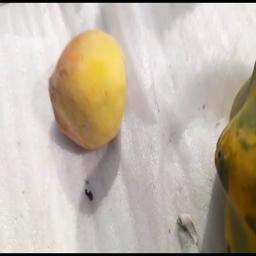Peach Semifresh: (42, 25, 135, 153)
